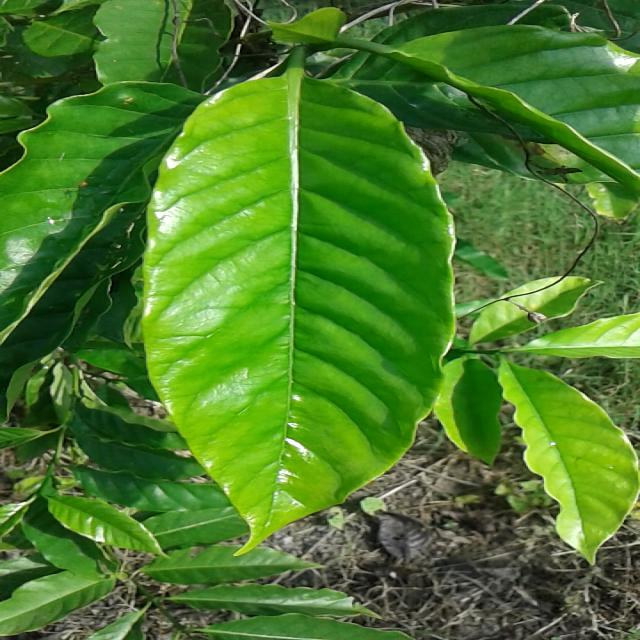Sanas: (139, 62, 454, 556)
